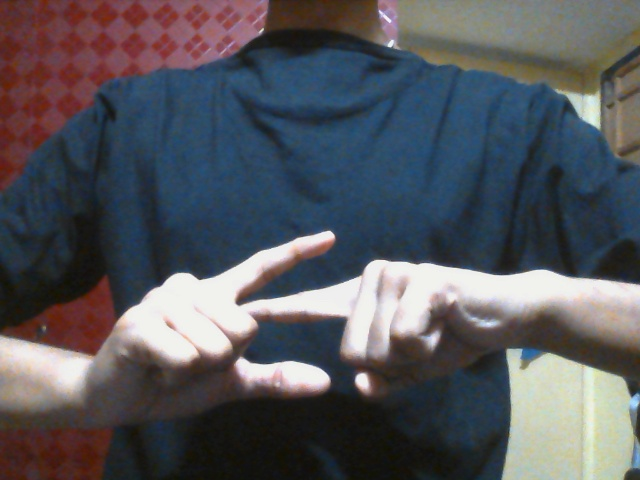E: (122, 229, 499, 427)
